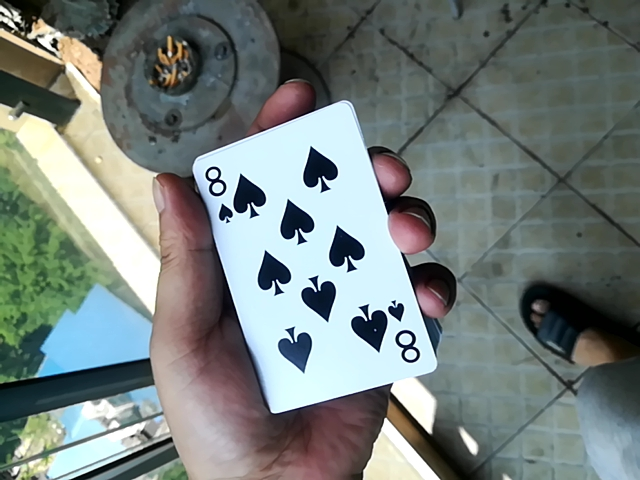ht 8: (171, 90, 433, 409)
